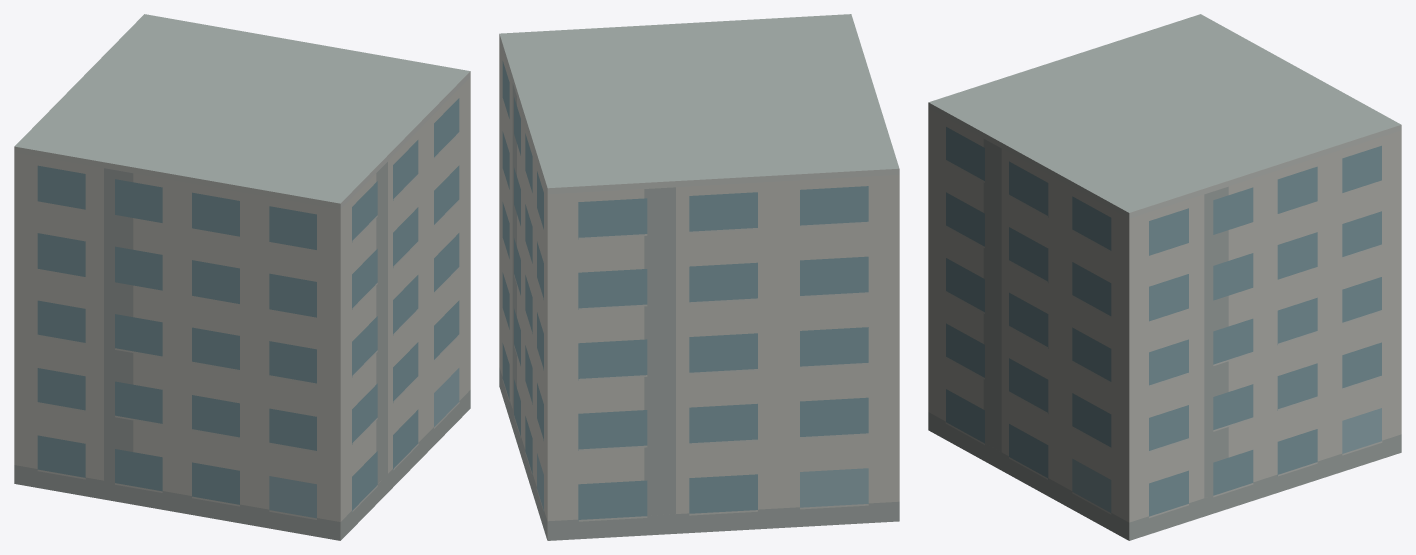
The model's file is residential-e18d797d-a317-4bfb-85c3-86e9bb7b7f90.glb.
3 renders of one model, left to right at view 1: azimuth 30°, elevation 25°; view 2: azimuth 150°, elevation 25°; view 3: azimuth 270°, elevation 25°, orthographic. The views are drawn at different scales.
Visible parts, largest first — view 1: residential-e18d797d-a317-4bfb-85c3-86e9bb7b7f90.tmp; view 2: residential-e18d797d-a317-4bfb-85c3-86e9bb7b7f90.tmp; view 3: residential-e18d797d-a317-4bfb-85c3-86e9bb7b7f90.tmp.
Boxes of the visible parts, bbox=[...] form: residential-e18d797d-a317-4bfb-85c3-86e9bb7b7f90.tmp: bbox=[14, 14, 470, 540]; residential-e18d797d-a317-4bfb-85c3-86e9bb7b7f90.tmp: bbox=[499, 14, 899, 540]; residential-e18d797d-a317-4bfb-85c3-86e9bb7b7f90.tmp: bbox=[928, 14, 1401, 540].
Bounding box in the file's own units: 17.97 × 13.8 × 18.05.
